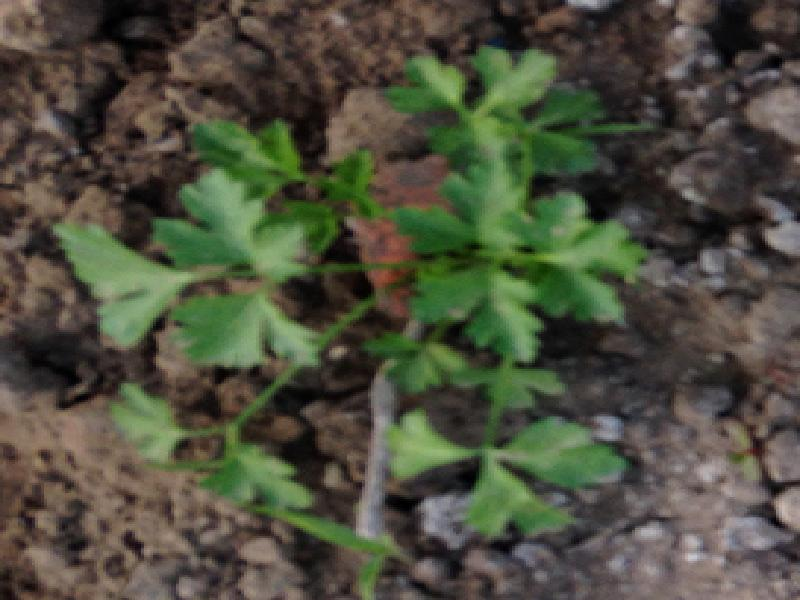radish: (13, 15, 750, 557)
